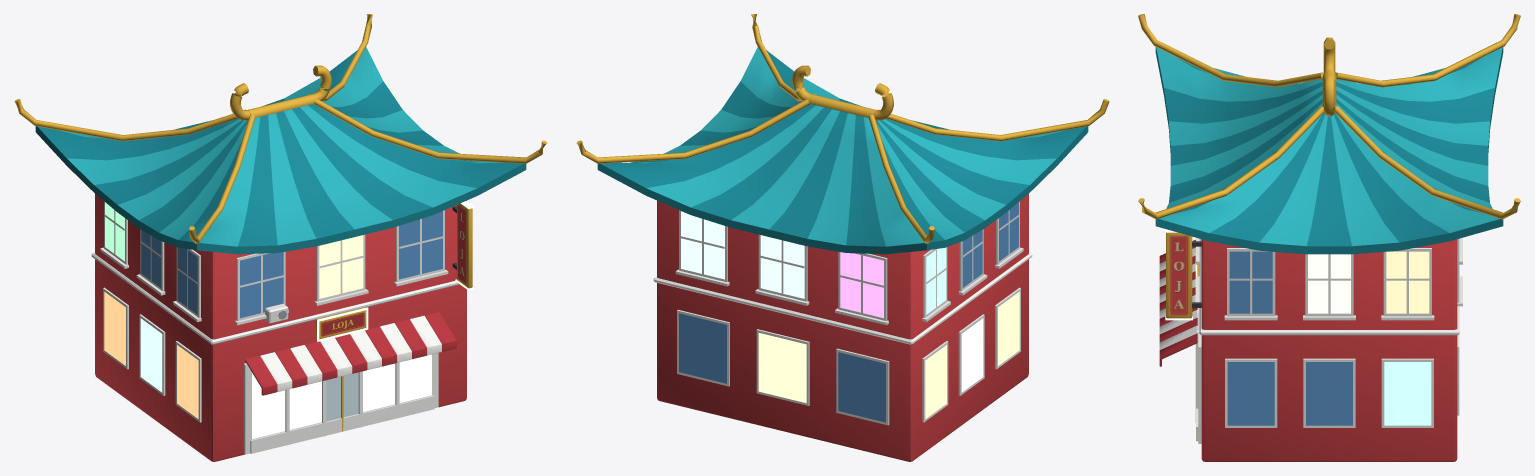
The model's file is loja_2_andares_vermelha.glb.
The picture shows the model from 3 angles, left to right: view 1: azimuth 30°, elevation 25°; view 2: azimuth 150°, elevation 25°; view 3: azimuth 270°, elevation 25°; orthographic projection. The views are drawn at different scales.
Parts seen in each view (by area): view 1: loja_2_andares_vermelha; view 2: loja_2_andares_vermelha; view 3: loja_2_andares_vermelha.
Part boxes in pixels (bbox=[...]): loja_2_andares_vermelha: bbox=[14, 14, 547, 461]; loja_2_andares_vermelha: bbox=[576, 14, 1109, 461]; loja_2_andares_vermelha: bbox=[1138, 14, 1520, 461].
Size of the model in its own units: 12.86 by 10.79 by 11.08.
Materials: 11 (3 with a texture image).
